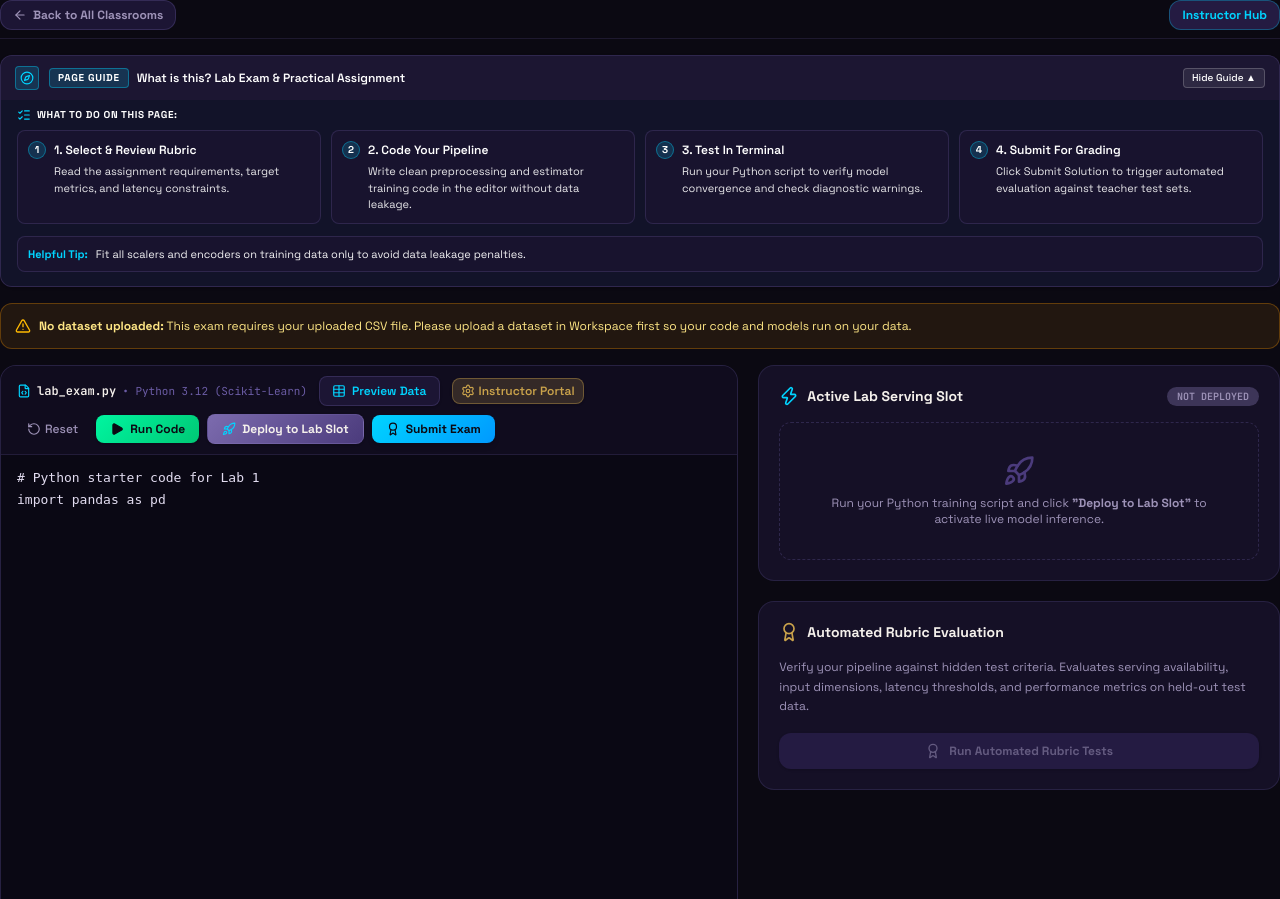
Test: University Lab Exam ClassroomHub › executes live test prediction and displays model output
Note: Deploy model
Click the button titled "Deploy newly trained model" at (286, 429), box [207,414,364,444]
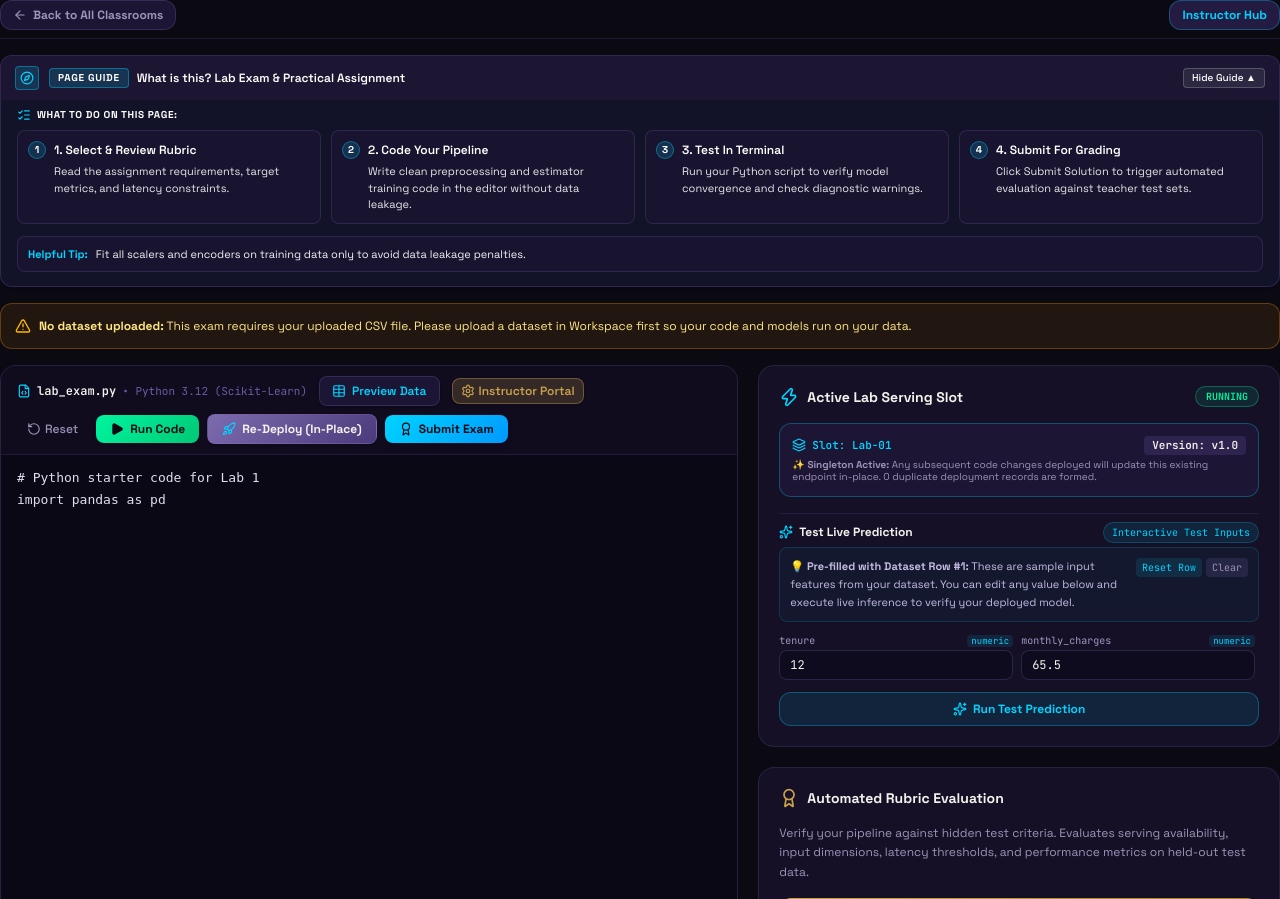
Now the text "Slot: Lab-01" is shown, box [792,438,892,453]
Note: Click Run Test Prediction
Click the button "Run Test Prediction" at (1019, 709), box [779,692,1259,726]
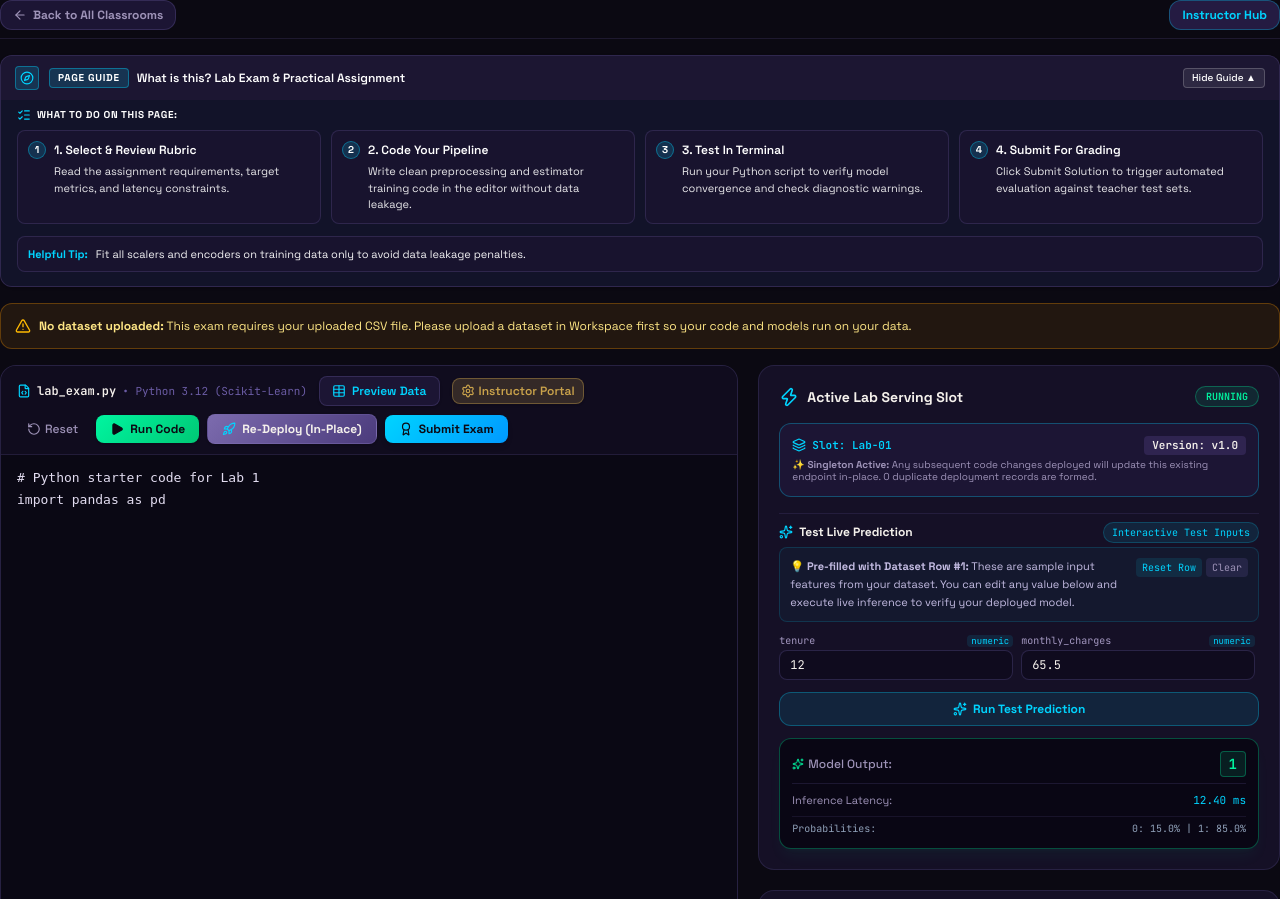
Now the text "Model Output:" is shown, box [792,756,892,772]
Now the text "Inference Latency:" is shown, box [792,792,892,808]
Now the text "12.40 ms" is shown, box [1193,792,1246,808]
